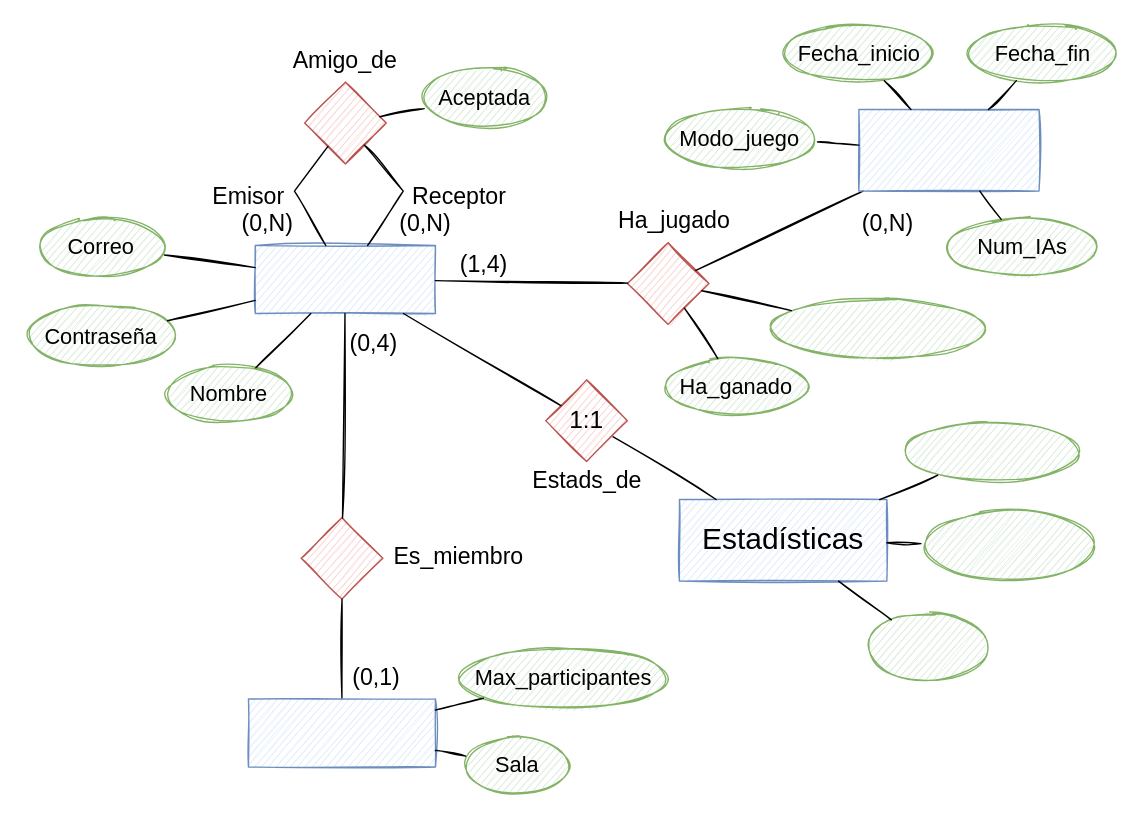
Image size: 1145x817. Some labels were removed from this diagram. Each missing label, with the centre of its shape:
"Jugadores_debajo" belongs at (878,328).
"Num_victorias" belongs at (1008,545).
"Partidas acabadas" belongs at (948,149).
"Puntos" belongs at (927,646).
"Sala_pausa" belongs at (341,732).
"Total_partidas" belongs at (991,451).
"Usuario" belongs at (344,278).
